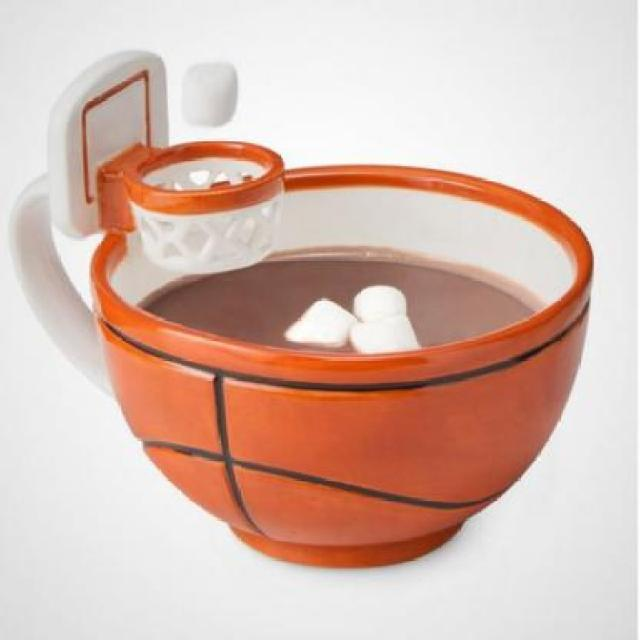cup: (4, 41, 602, 579)
